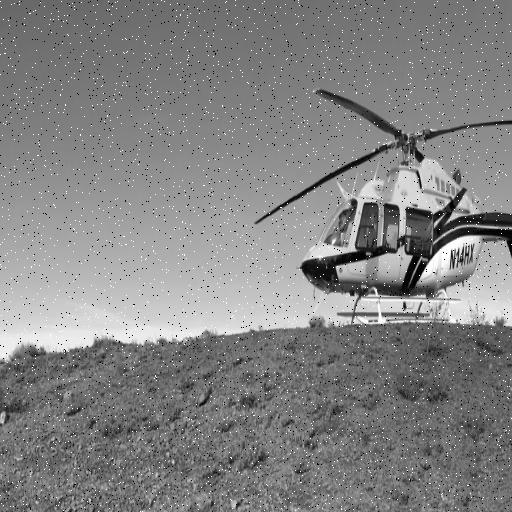helicopter: (254, 83, 512, 333)
